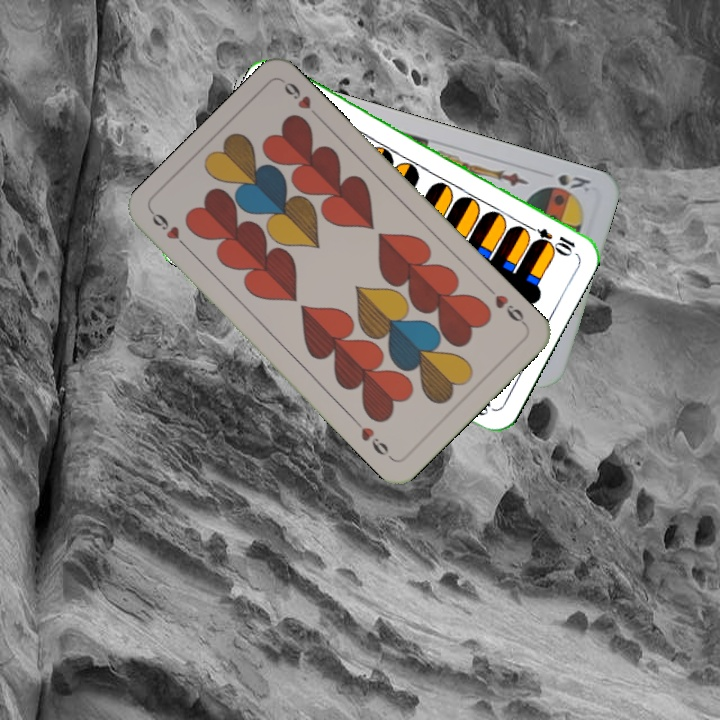E10: (522, 220, 578, 255)
H9: (147, 208, 194, 254), (484, 283, 530, 329)
SK: (554, 170, 595, 196)
